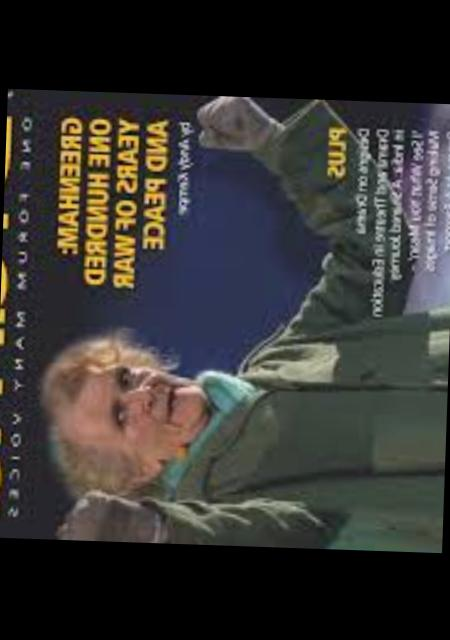cardboard paper: (0, 87, 450, 553)
